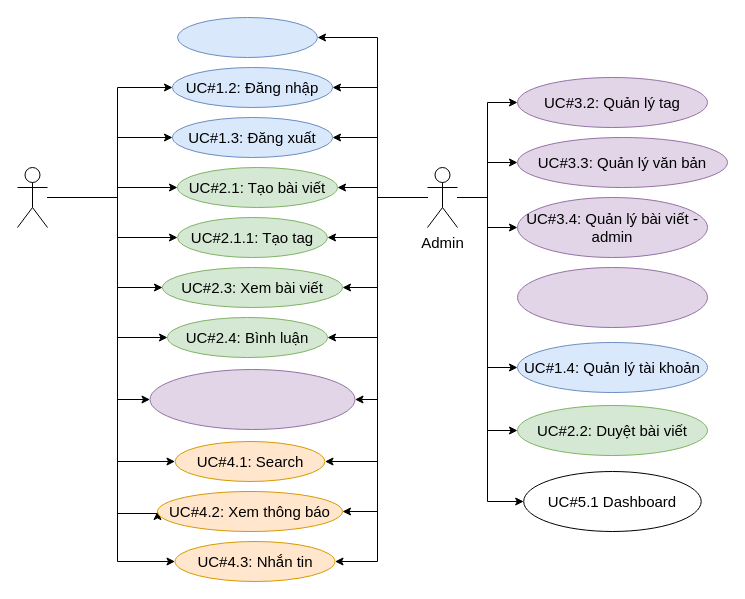
Image size: 745x599. Some labels were removed from this diagram. The box of each missing label's shape, as (x1, y1, x2, y2) in pixels:
UC#1.1: Đăng ký: (176, 16, 318, 58)
UC#3.1: Quản lý tài khoản cá nhân: (149, 368, 355, 430)
UC#3.5: Quản lý kiểu văn bản: (516, 266, 708, 328)
User: (16, 166, 48, 228)
